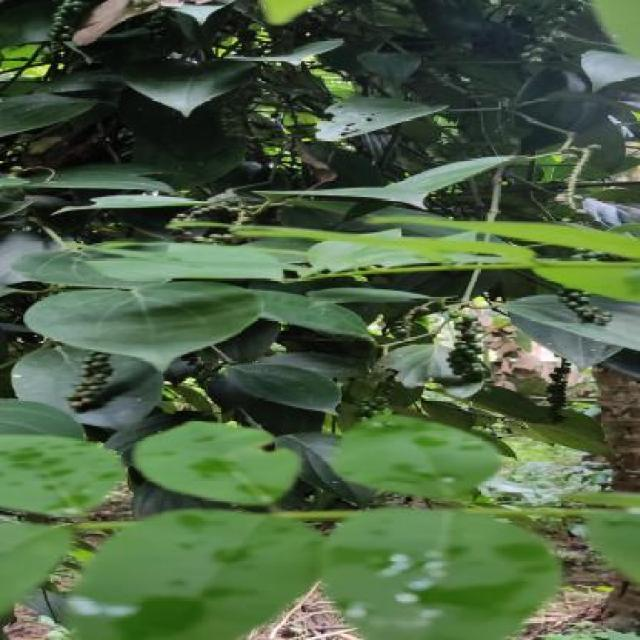UNRIPE: (528, 0, 586, 63), (178, 197, 254, 245), (443, 317, 494, 378), (63, 351, 114, 409), (551, 289, 611, 325), (217, 86, 252, 139), (356, 370, 393, 419), (543, 356, 571, 419), (46, 0, 79, 43), (143, 5, 174, 45), (380, 310, 420, 339)
